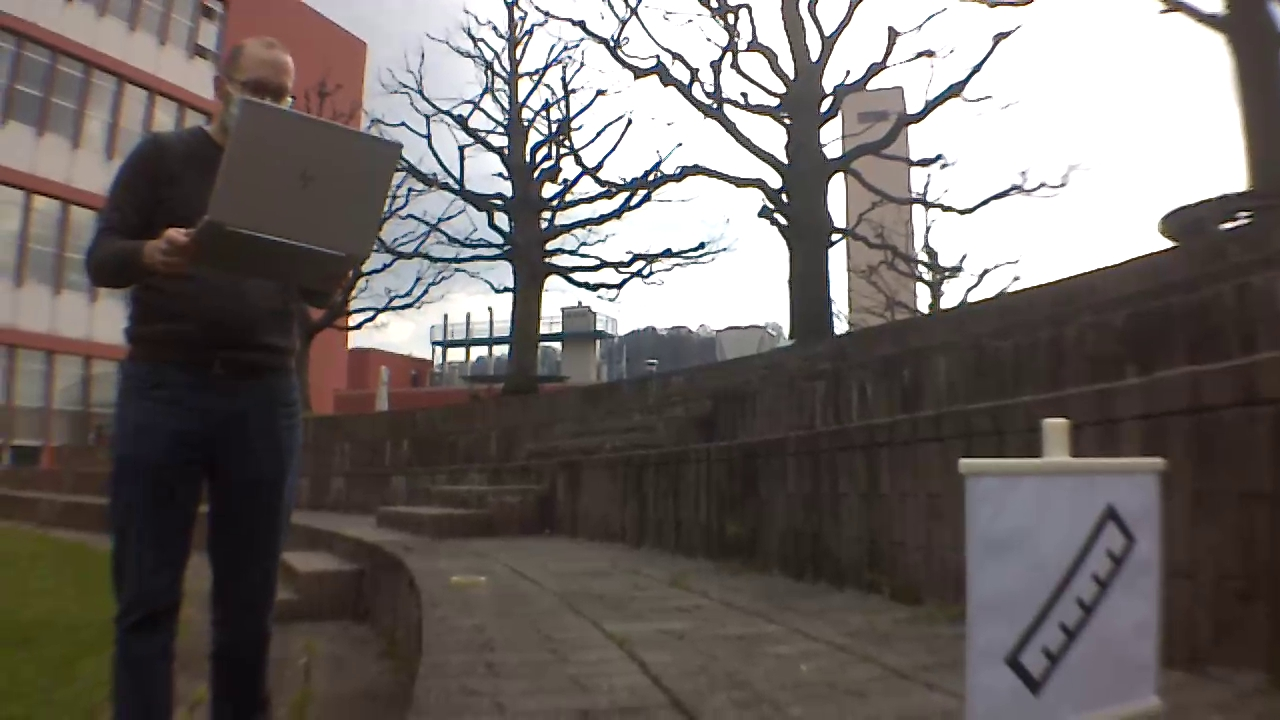ruler: (1002, 499, 1143, 699)
